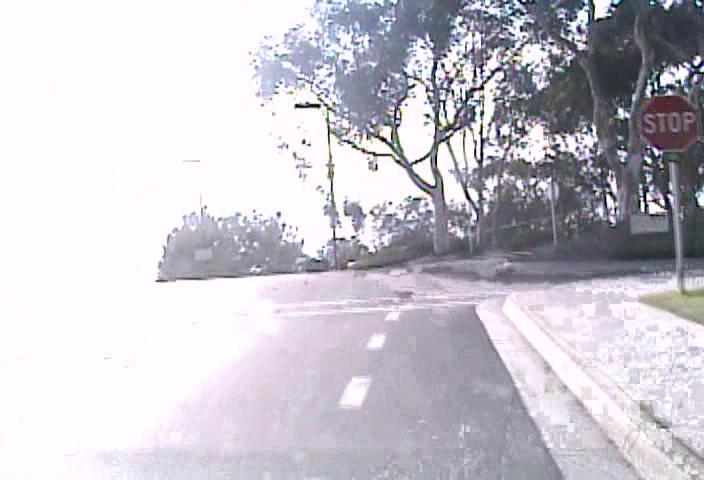stop: (639, 94, 700, 151)
